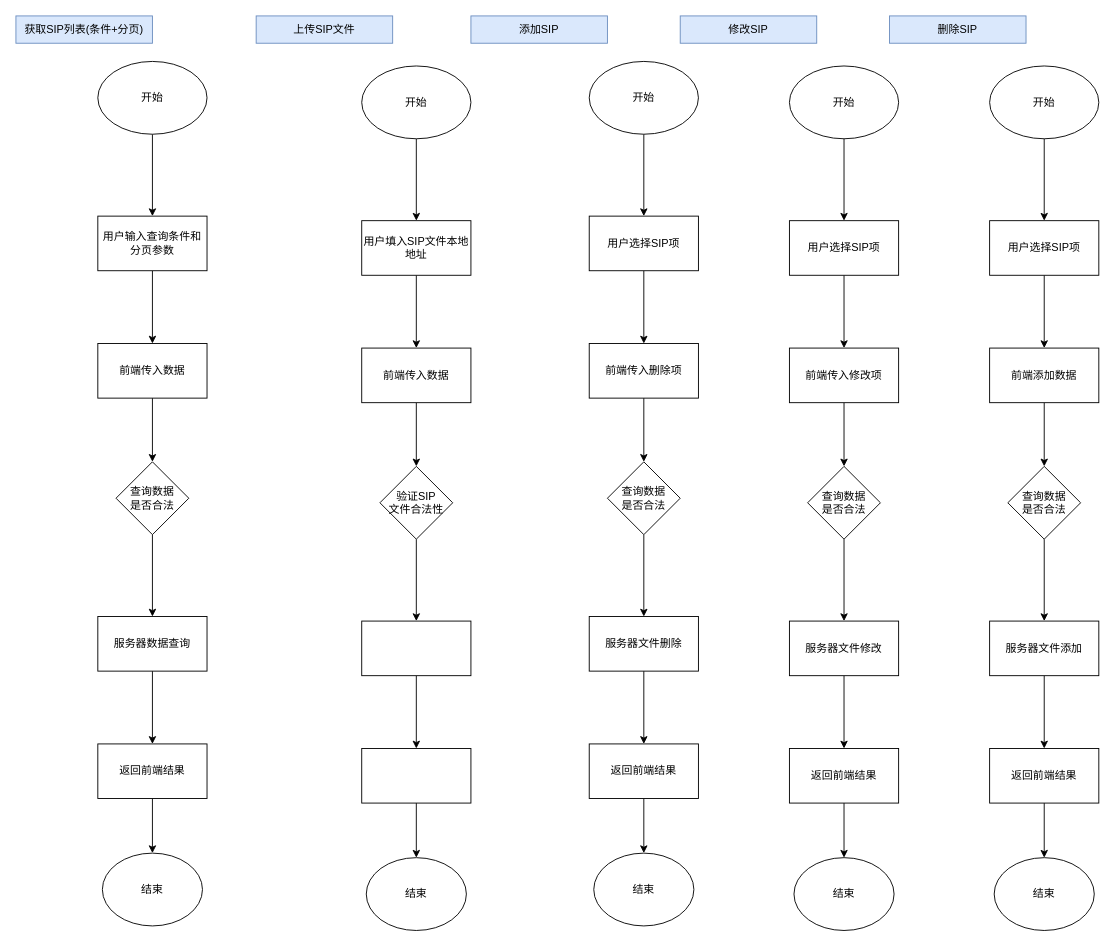
This 1115x946 diagram has some shape labels left out. Each missing label, with the centre of its shape:
"服务器文件传入" goes at (416,648).
"返回文件传输结果" goes at (416,775).
